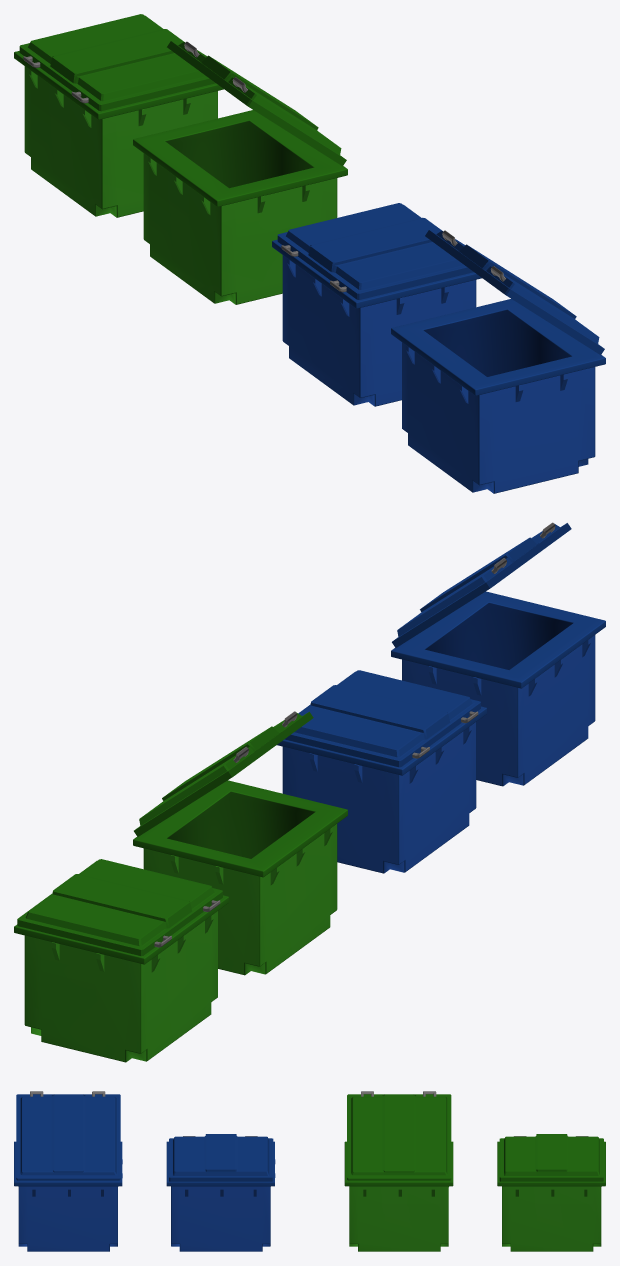
File: Tacho.fbx
The picture shows the model from 3 angles, top to bottom: view 1: azimuth 30°, elevation 25°; view 2: azimuth 150°, elevation 25°; view 3: azimuth 270°, elevation 25°; orthographic projection. The views are drawn at different scales.
Parts seen in each view (by area): view 1: Tacho de basura azul 2, Tacho de basura verde 2, Tacho de basura azul, Tacho de basura verde; view 2: Tacho de basura verde, Tacho de basura azul, Tacho de basura verde 2, Tacho de basura azul 2; view 3: Tacho de basura verde 2, Tacho de basura azul 2, Tacho de basura azul, Tacho de basura verde.
Part boxes in pixels (box(x1,y1,x2,y2)): Tacho de basura azul 2: box(391, 230, 605, 493); Tacho de basura verde 2: box(133, 41, 347, 304); Tacho de basura azul: box(272, 203, 481, 406); Tacho de basura verde: box(14, 14, 223, 217); Tacho de basura verde: box(14, 859, 228, 1062); Tacho de basura azul: box(277, 670, 486, 873); Tacho de basura verde 2: box(133, 711, 347, 975); Tacho de basura azul 2: box(391, 522, 605, 786); Tacho de basura verde 2: box(344, 1091, 453, 1251); Tacho de basura azul 2: box(14, 1091, 122, 1251); Tacho de basura azul: box(166, 1134, 275, 1251); Tacho de basura verde: box(497, 1134, 605, 1251).
Bounding box in the file's own units: 318 × 1859 × 467.
Materials: 1 (1 with a texture image).
